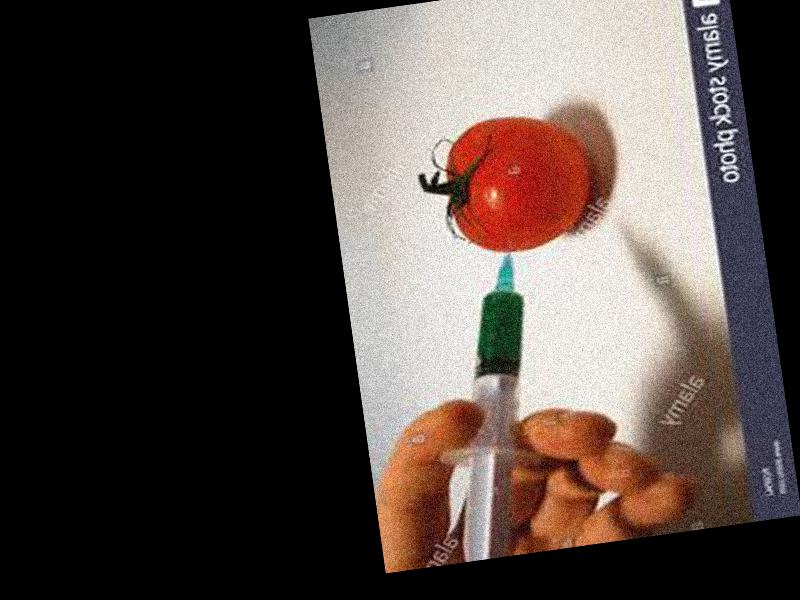Tomato: (440, 108, 599, 259)
